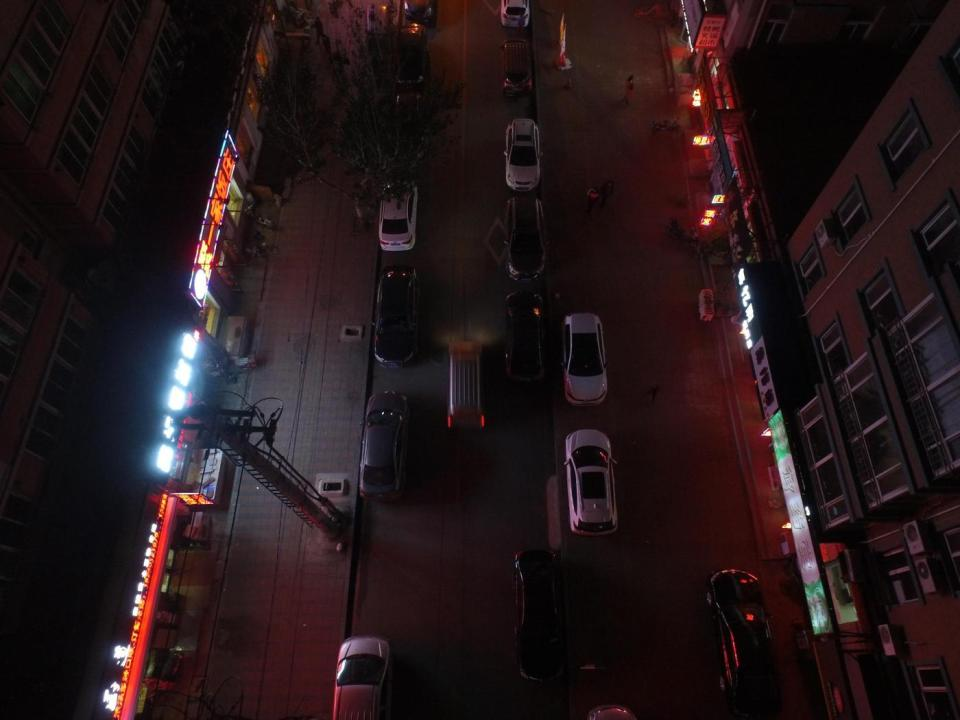car: (706, 570, 770, 717), (512, 549, 567, 681), (564, 428, 620, 533), (362, 392, 411, 500), (331, 634, 392, 719), (559, 311, 607, 406), (501, 290, 545, 381), (378, 267, 418, 365), (503, 196, 547, 280), (377, 174, 417, 252), (393, 29, 430, 111), (502, 117, 541, 191), (500, 40, 534, 96), (404, 0, 436, 25), (500, 0, 529, 27)
van: (446, 340, 488, 429)
